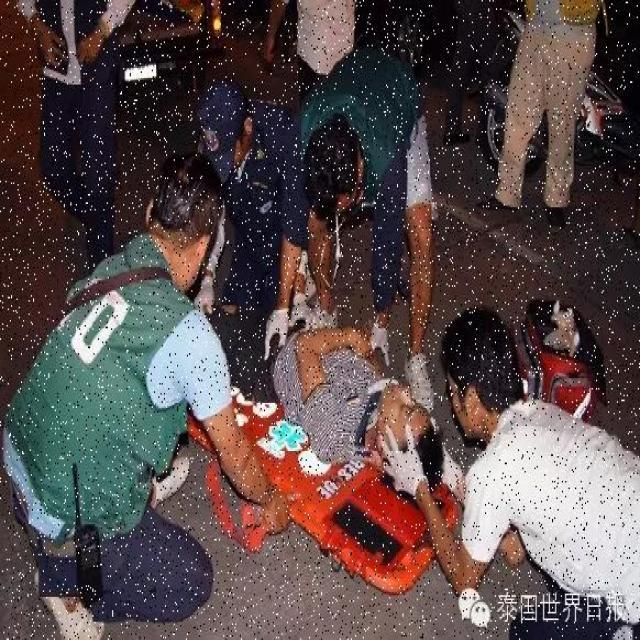fall: (254, 312, 442, 479)
